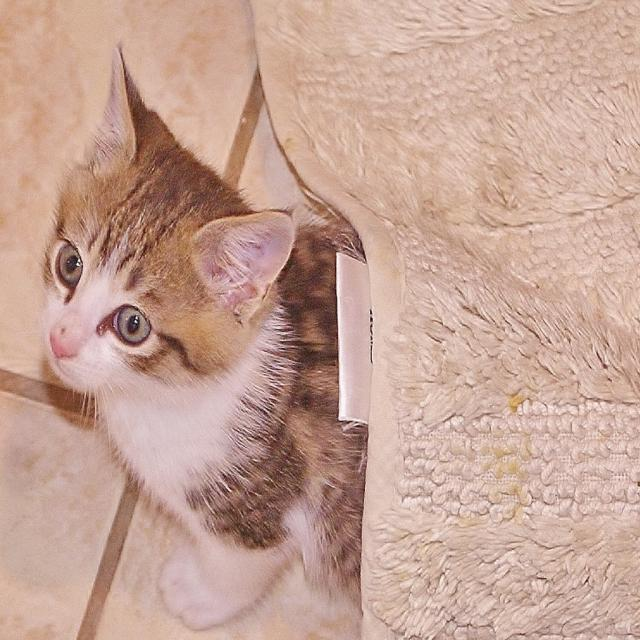Cat: (37, 39, 364, 629)
